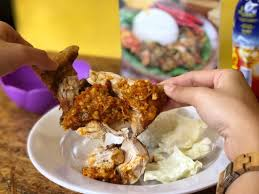ayam_geprek: (38, 46, 156, 176)
